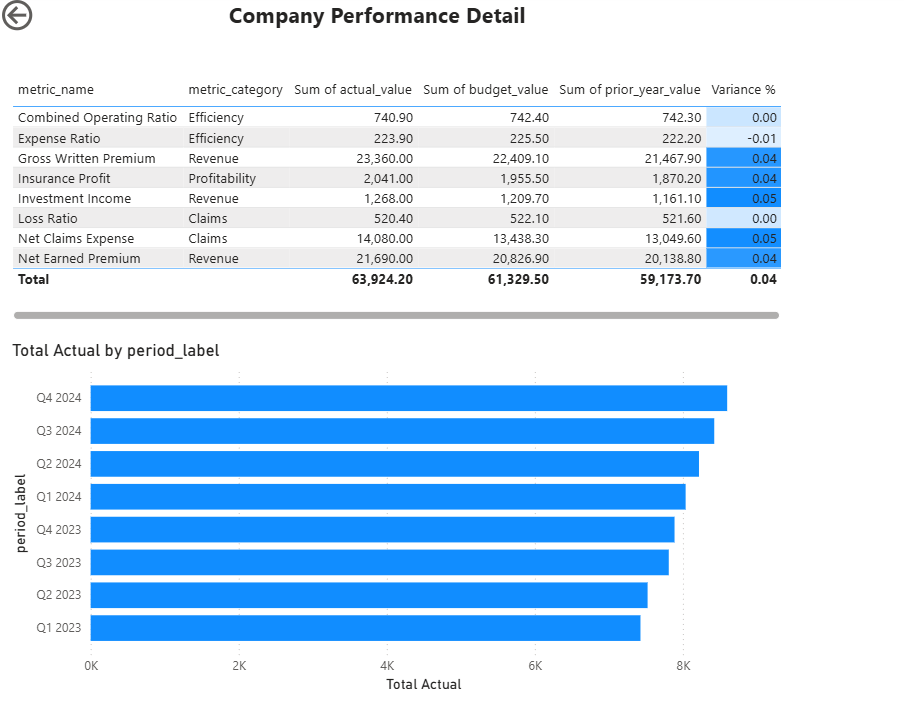

This screenshot's page, from the dashboard's own definition file:
{"tool":"powerbi","page":{"name":"Company Deep Dive","canvas":[1280,720],"ordinal":3},"visuals":[{"type":"actionButton","box":[0,0,100,40],"z":0},{"type":"tableEx","fields":{"Values":["dim_metric.metric_name","dim_metric.metric_category","Sum(fact_financials.actual_value)","Sum(fact_financials.budget_value)","Sum(fact_financials.prior_year_value)","Measures (2).Variance %"]},"box":[9.9,78.4,773,249.1],"z":1},{"type":"textbox","box":[225.2,0,356.2,39.7],"z":2},{"type":"clusteredBarChart","fields":{"Category":["dim_period.period_label"],"Y":["Measures (2).Total Actual"]},"box":[9.9,342.3,756.1,354.2],"z":3}]}

Visuals, with their boxes on the page's 1280x720 design canvas (x1, y1, x2, y2). These are canvas units, not pixel positions in the 904x707 screenshot, which may show the page scaled, cropped or inside an application window:
actionButton: 0/0/100/40
tableEx - dim_metric.metric_name x dim_metric.metric_category: 10/78/783/328
textbox: 225/0/581/40
clusteredBarChart - dim_period.period_label x Measures (2).Total Actual: 10/342/766/696
